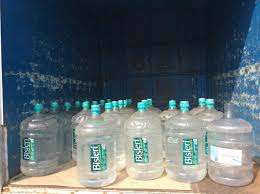Bisleri: (89, 145, 109, 174), (133, 137, 150, 165), (20, 137, 35, 163), (183, 140, 195, 165)
plastic: (80, 122, 121, 192), (163, 120, 207, 178), (213, 127, 248, 177), (127, 123, 158, 177), (22, 123, 54, 168)
